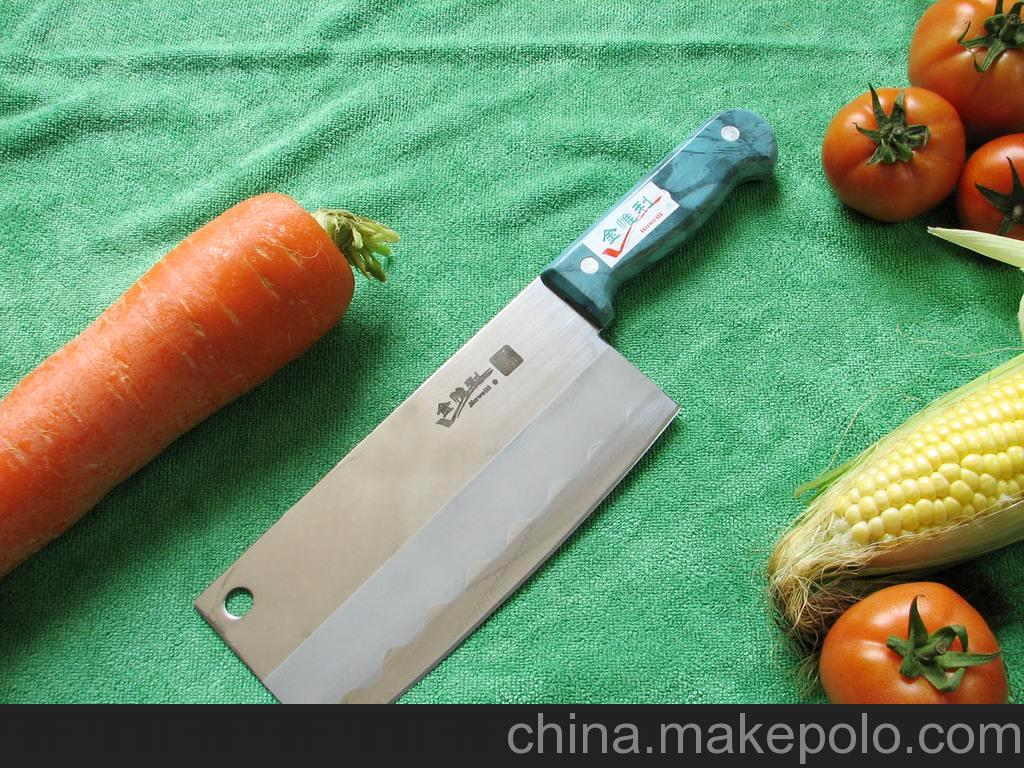knief: (219, 127, 789, 674)
